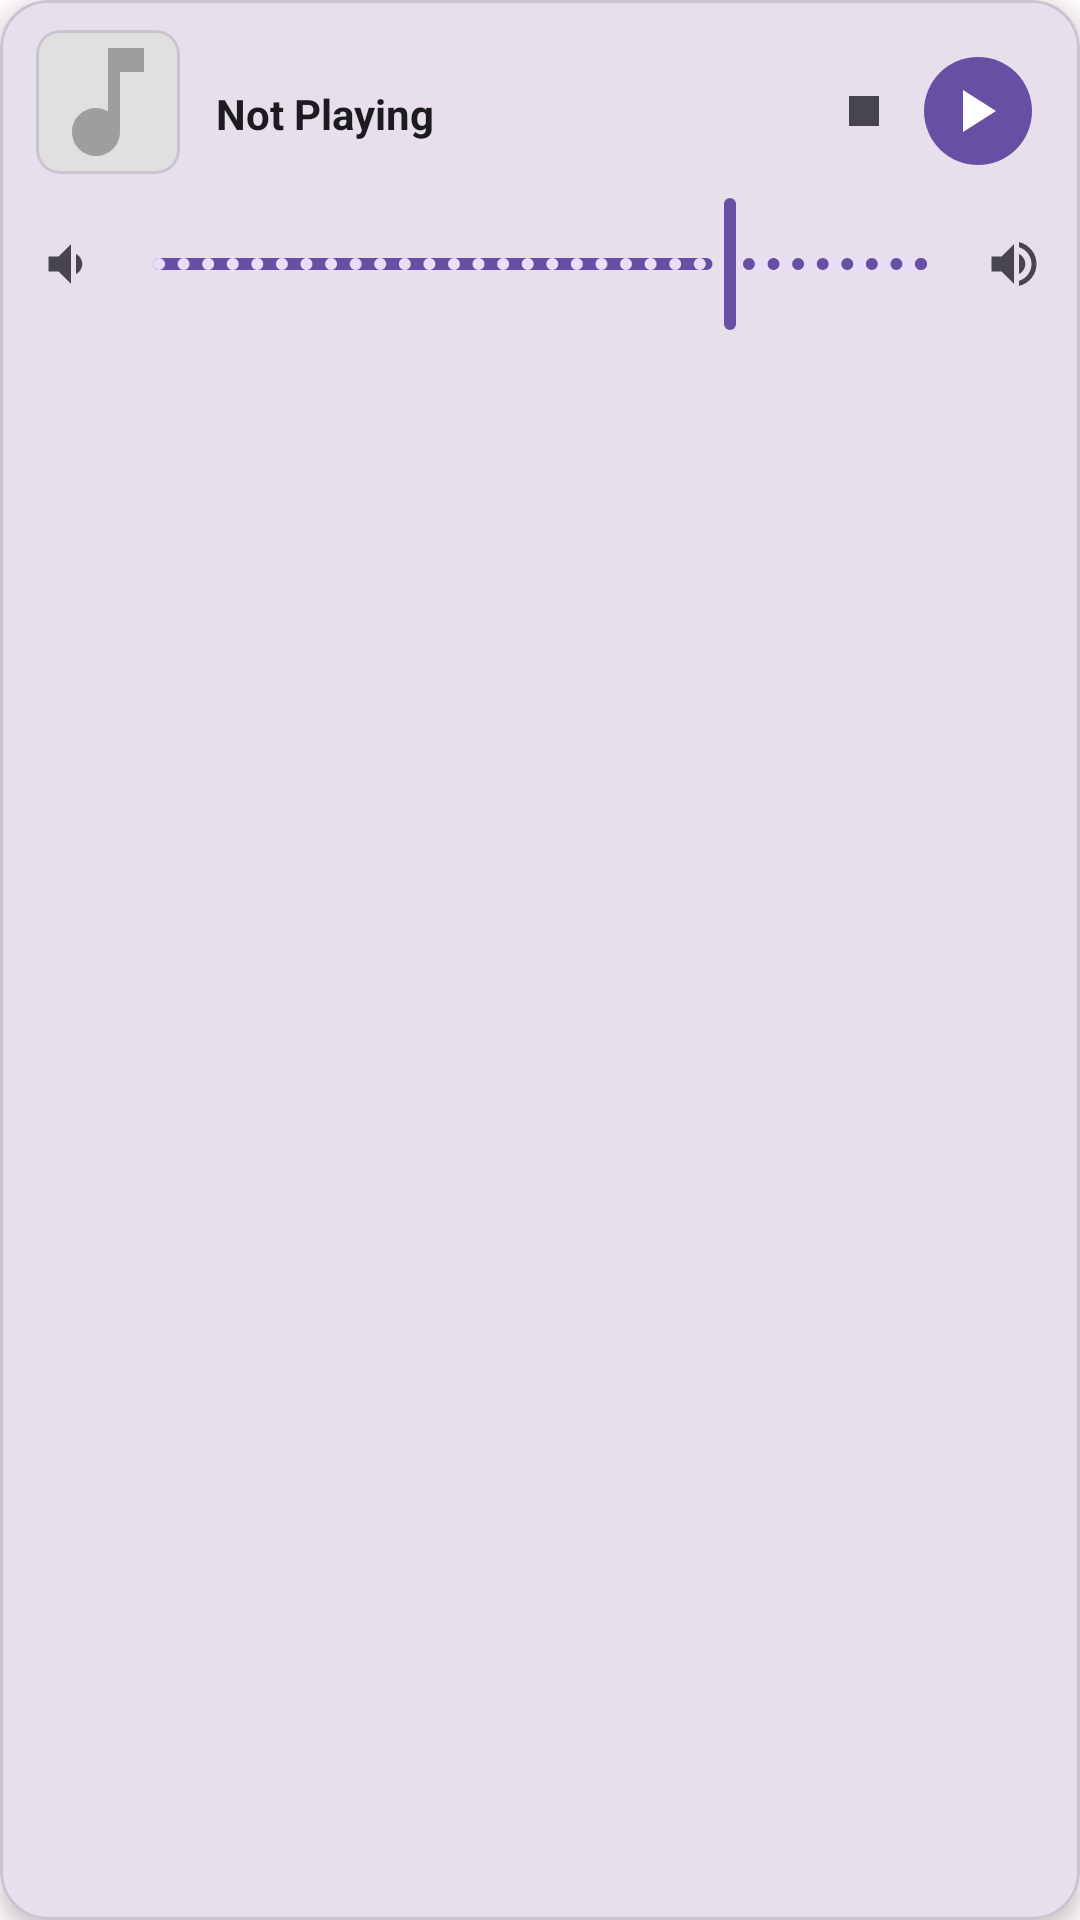

Screen size 1080×1920. Icon name, then its center in pixels as [x,y]:
Play button: [978,111]
volume down: [65,264]
volume up: [1014,264]
